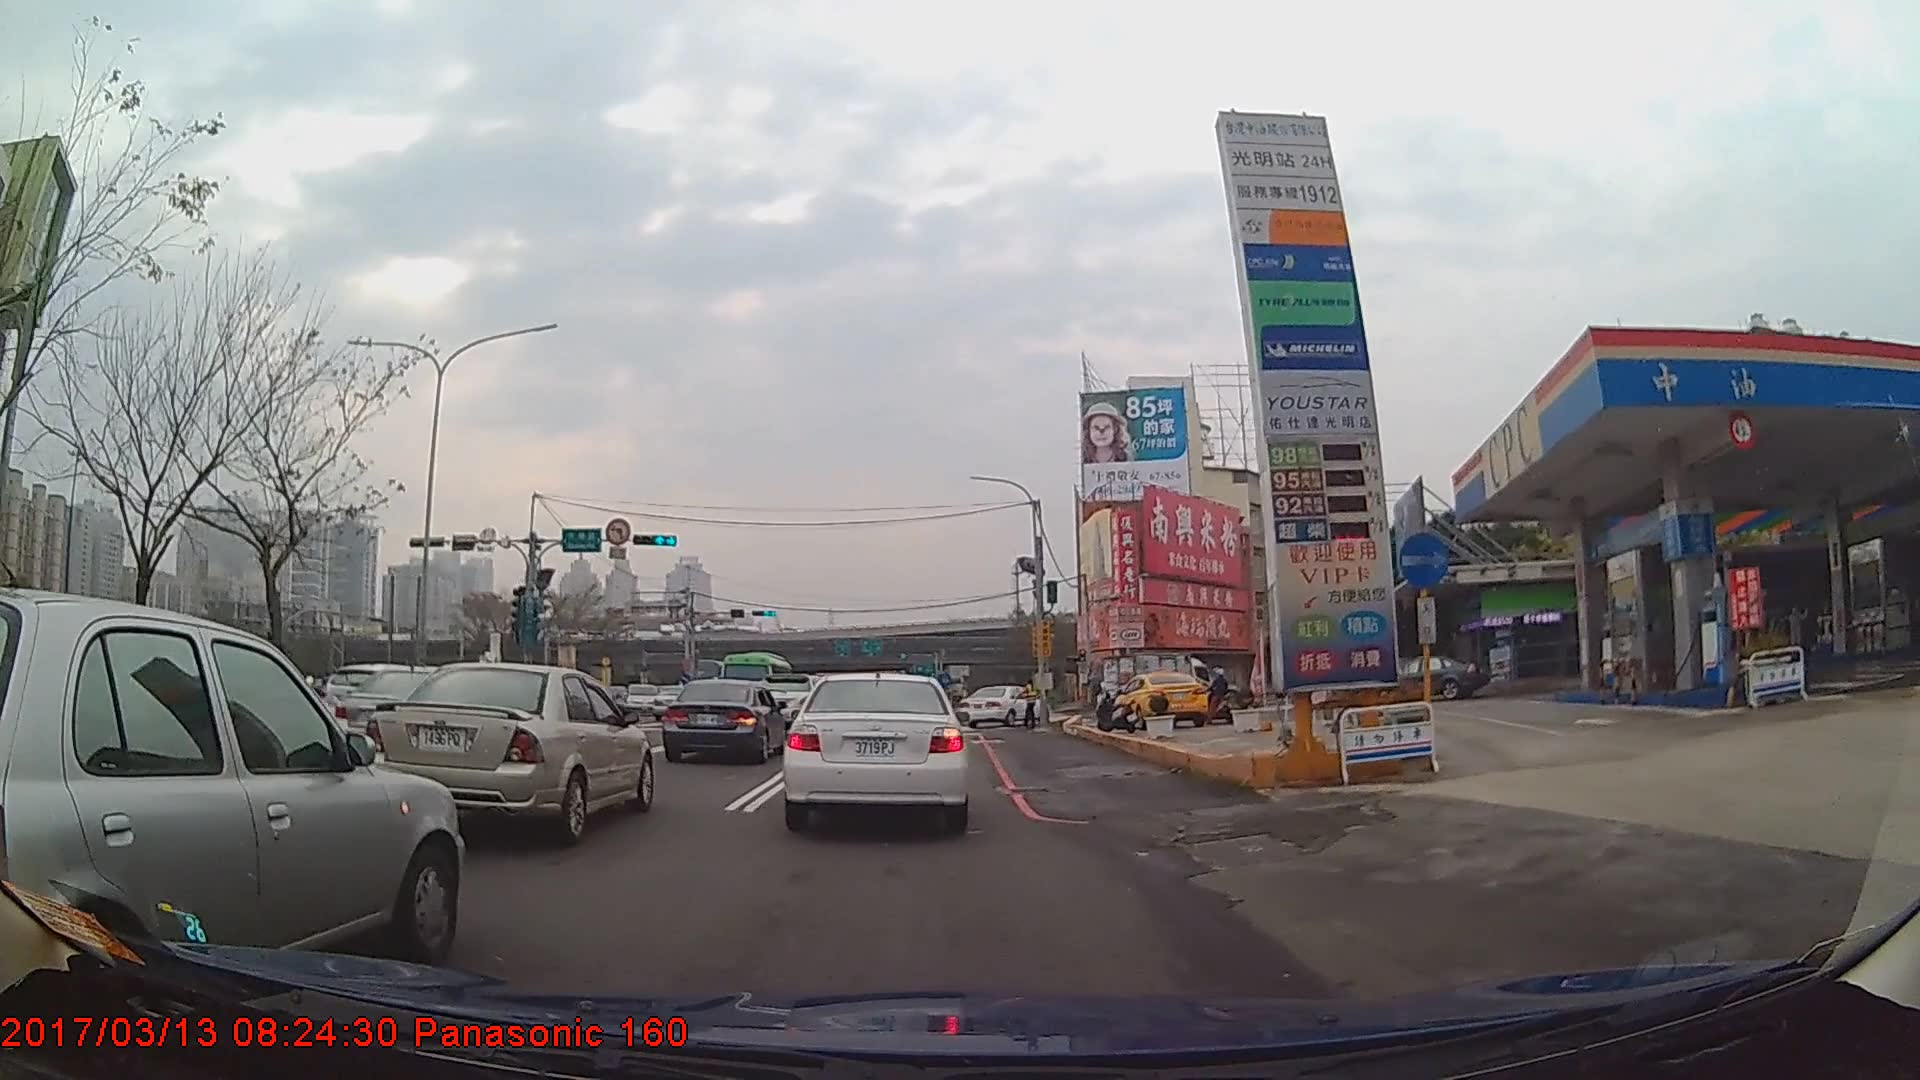rider: (245, 642, 325, 767), (1315, 659, 1355, 720), (1203, 669, 1238, 727)
vehicle: (0, 585, 465, 1003), (365, 661, 655, 842), (785, 668, 970, 831), (661, 677, 789, 766), (1099, 650, 1212, 714), (1113, 670, 1209, 728), (717, 650, 795, 709), (1384, 655, 1488, 699), (960, 684, 1050, 729)
